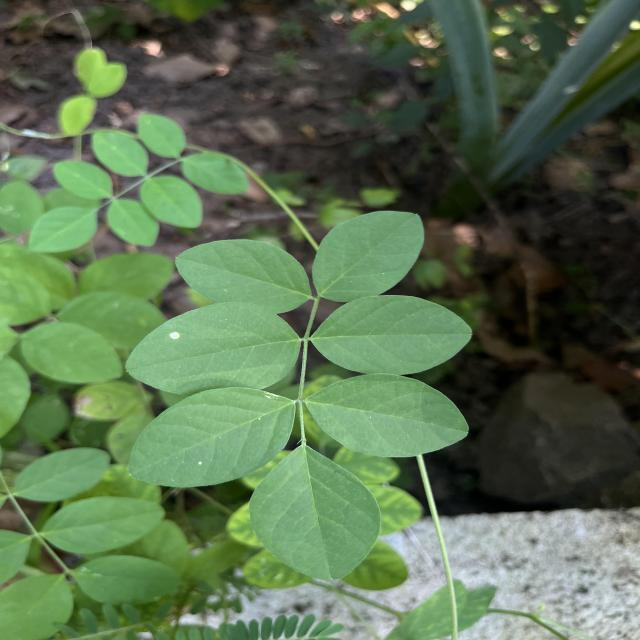Clitoria ternatea: (247, 443, 385, 582), (123, 300, 304, 398), (126, 386, 296, 490), (306, 371, 474, 459), (312, 294, 474, 376), (309, 209, 426, 305), (176, 238, 312, 316)
